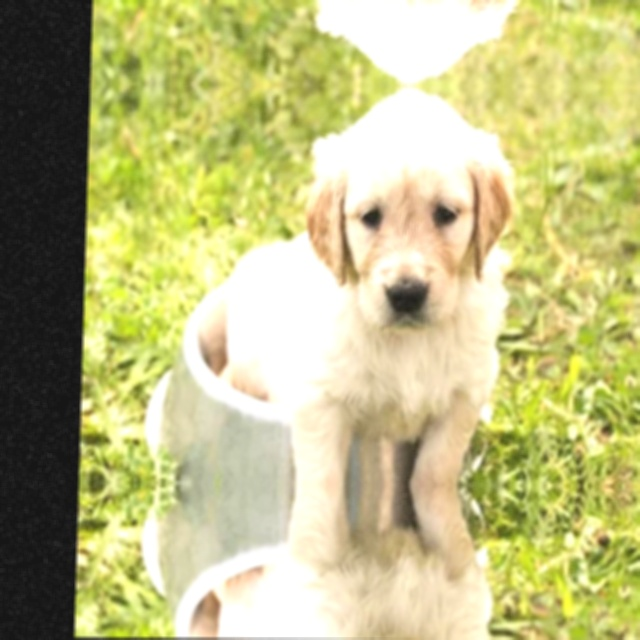dog: (291, 84, 529, 349), (299, 0, 533, 86), (283, 618, 513, 640)
